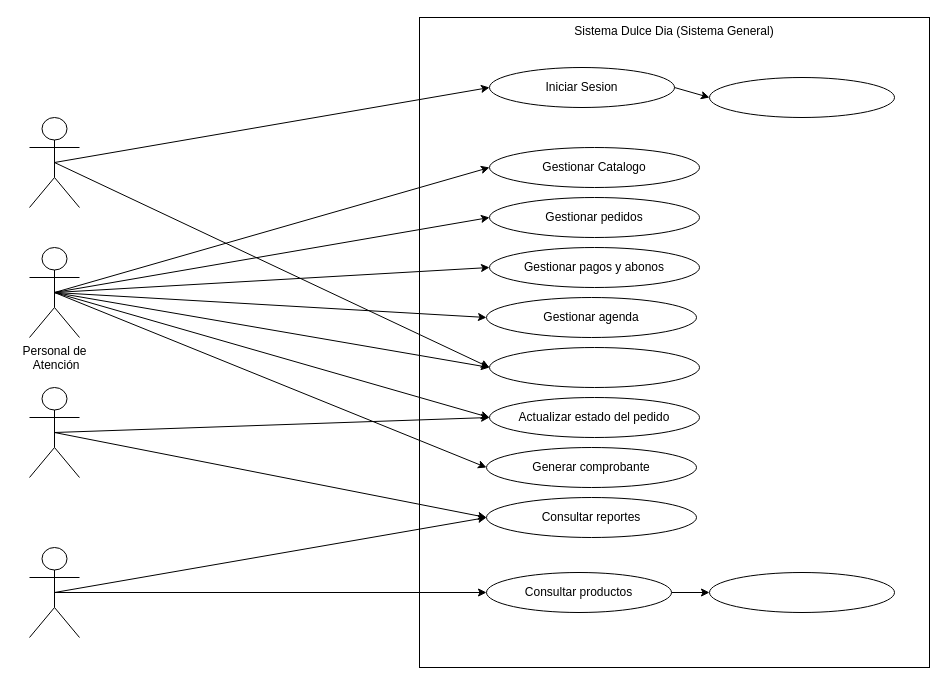
Image size: 947x691. Some labels were removed from this diagram. Here are the shapes that lost their labels. From the top down, the centre of each, then its label:
At pixel 801 97: "Consultar Catalogo".
At pixel 54 162: "Cliente".
At pixel 594 367: "Consultar pedidos".
At pixel 54 432: "Administrador".
At pixel 54 592: "Personal de Producción".
At pixel 801 592: "Utilizar ChatBot AI".
